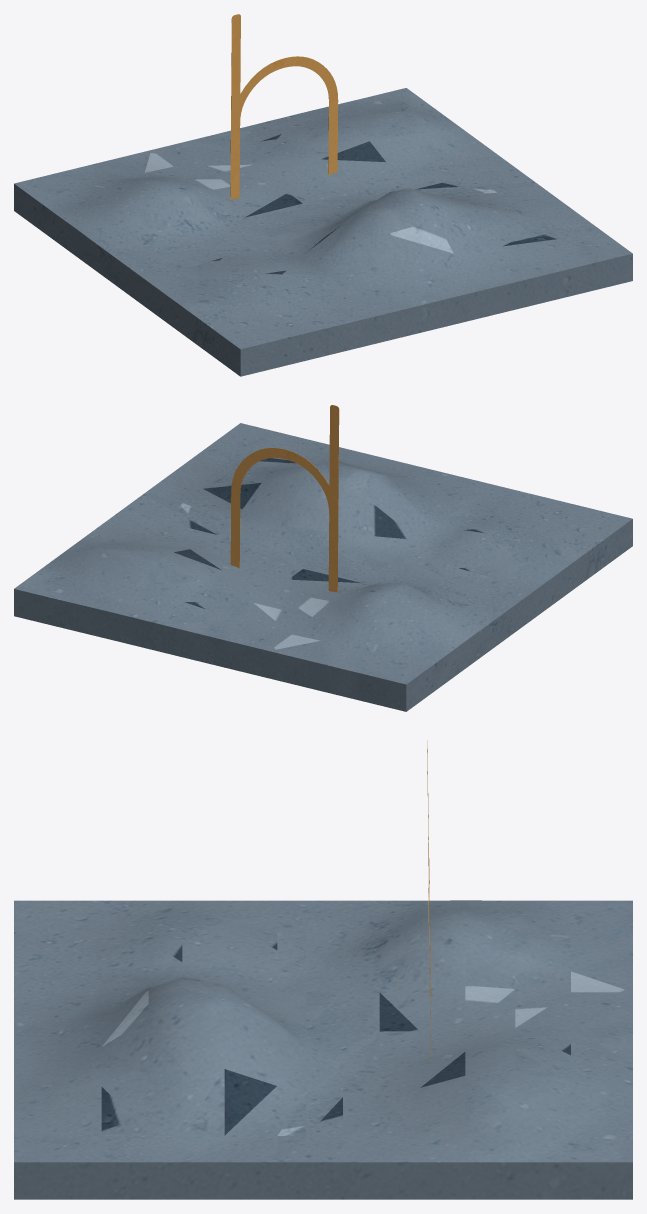
The picture shows the model from 3 angles, top to bottom: view 1: azimuth 30°, elevation 25°; view 2: azimuth 150°, elevation 25°; view 3: azimuth 270°, elevation 25°; orthographic projection. The views are drawn at different scales.
Visible parts, largest first — view 1: Box008, Text008; view 2: Box008, Text008; view 3: Box008.
Part boxes in pixels (left/top/right/bottom): Box008: left=14, top=88, right=632, bottom=376; Text008: left=230, top=14, right=338, bottom=199; Box008: left=14, top=423, right=632, bottom=711; Text008: left=230, top=405, right=339, bottom=592; Box008: left=14, top=900, right=632, bottom=1199.
Size of the model in its own units: 381 by 200 by 381.
Materials: 1 (1 with a texture image).
